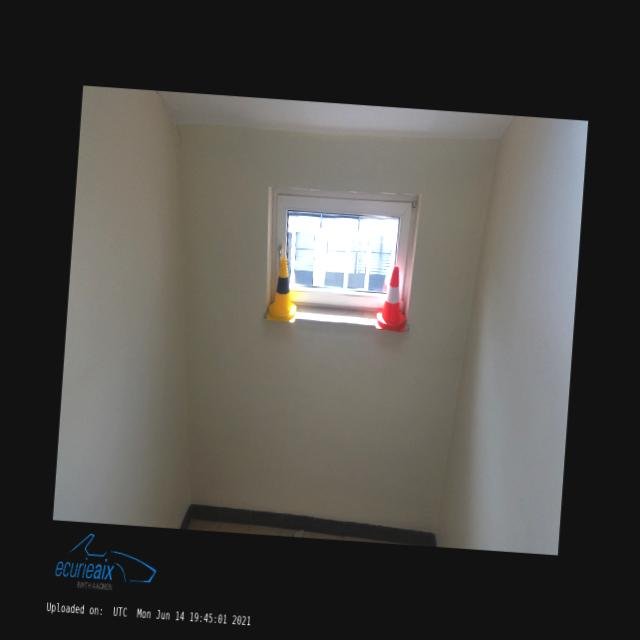orange_cone: (375, 265, 408, 332)
yellow_cone: (266, 256, 299, 322)
